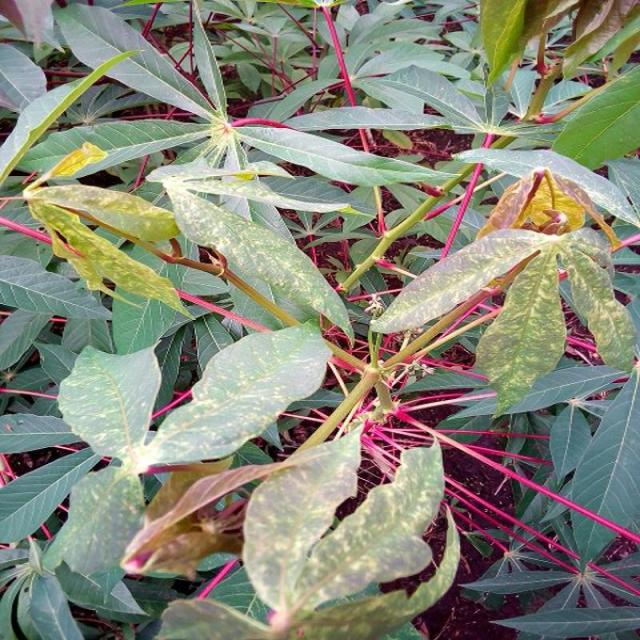cassava leaf: (2, 1, 640, 638), (165, 174, 356, 345), (142, 318, 334, 470)
